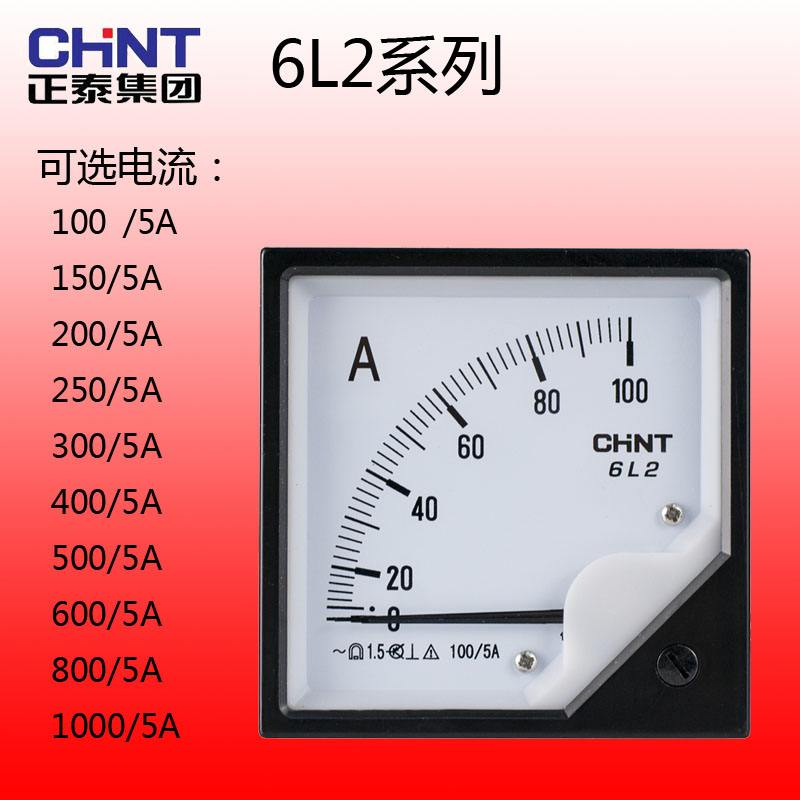pointer: (279, 267, 714, 713)
